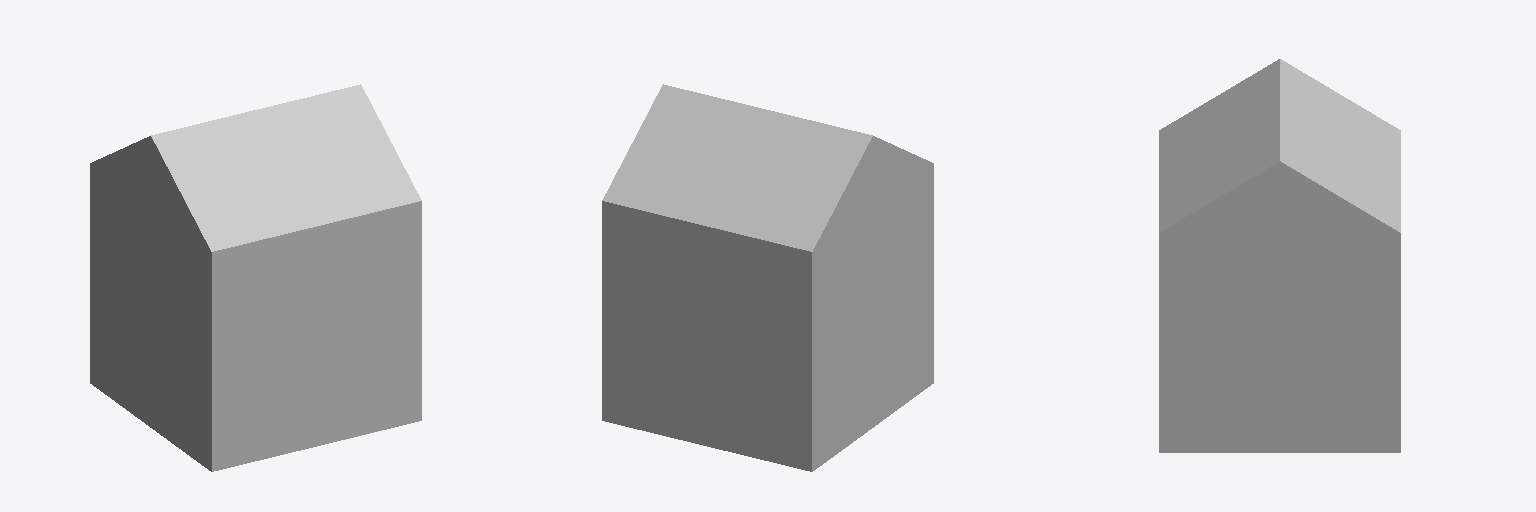
File: house.obj
3 renders of one model, left to right at view 1: azimuth 30°, elevation 25°; view 2: azimuth 150°, elevation 25°; view 3: azimuth 270°, elevation 25°, orthographic.
Parts seen in each view (by area): view 1: cube1; view 2: cube1; view 3: cube1.
Boxes of the visible parts, <box> form: cube1: <box>90,84,421,471</box>; cube1: <box>602,84,933,471</box>; cube1: <box>1159,59,1400,452</box>.
Bounding box in the file's own units: 2 × 2.66 × 2.